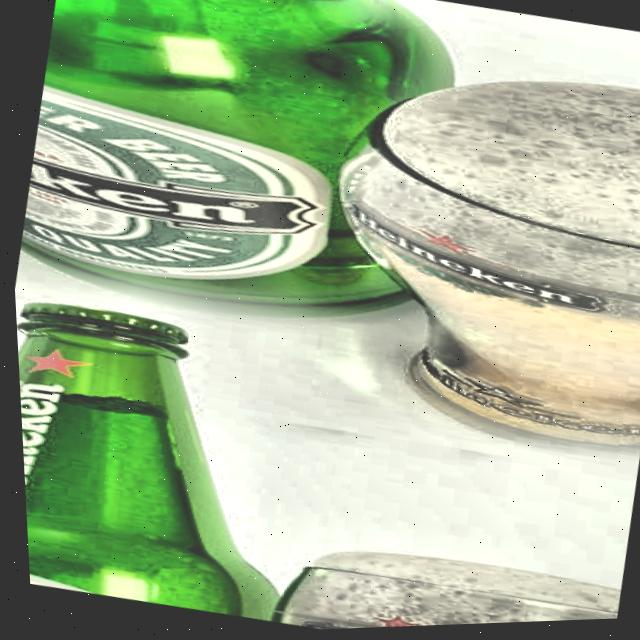glass: (17, 0, 444, 319), (332, 92, 640, 458), (14, 327, 270, 623)
metal: (12, 284, 199, 350)
